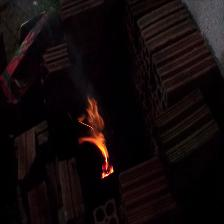fire: (80, 100, 115, 178)
